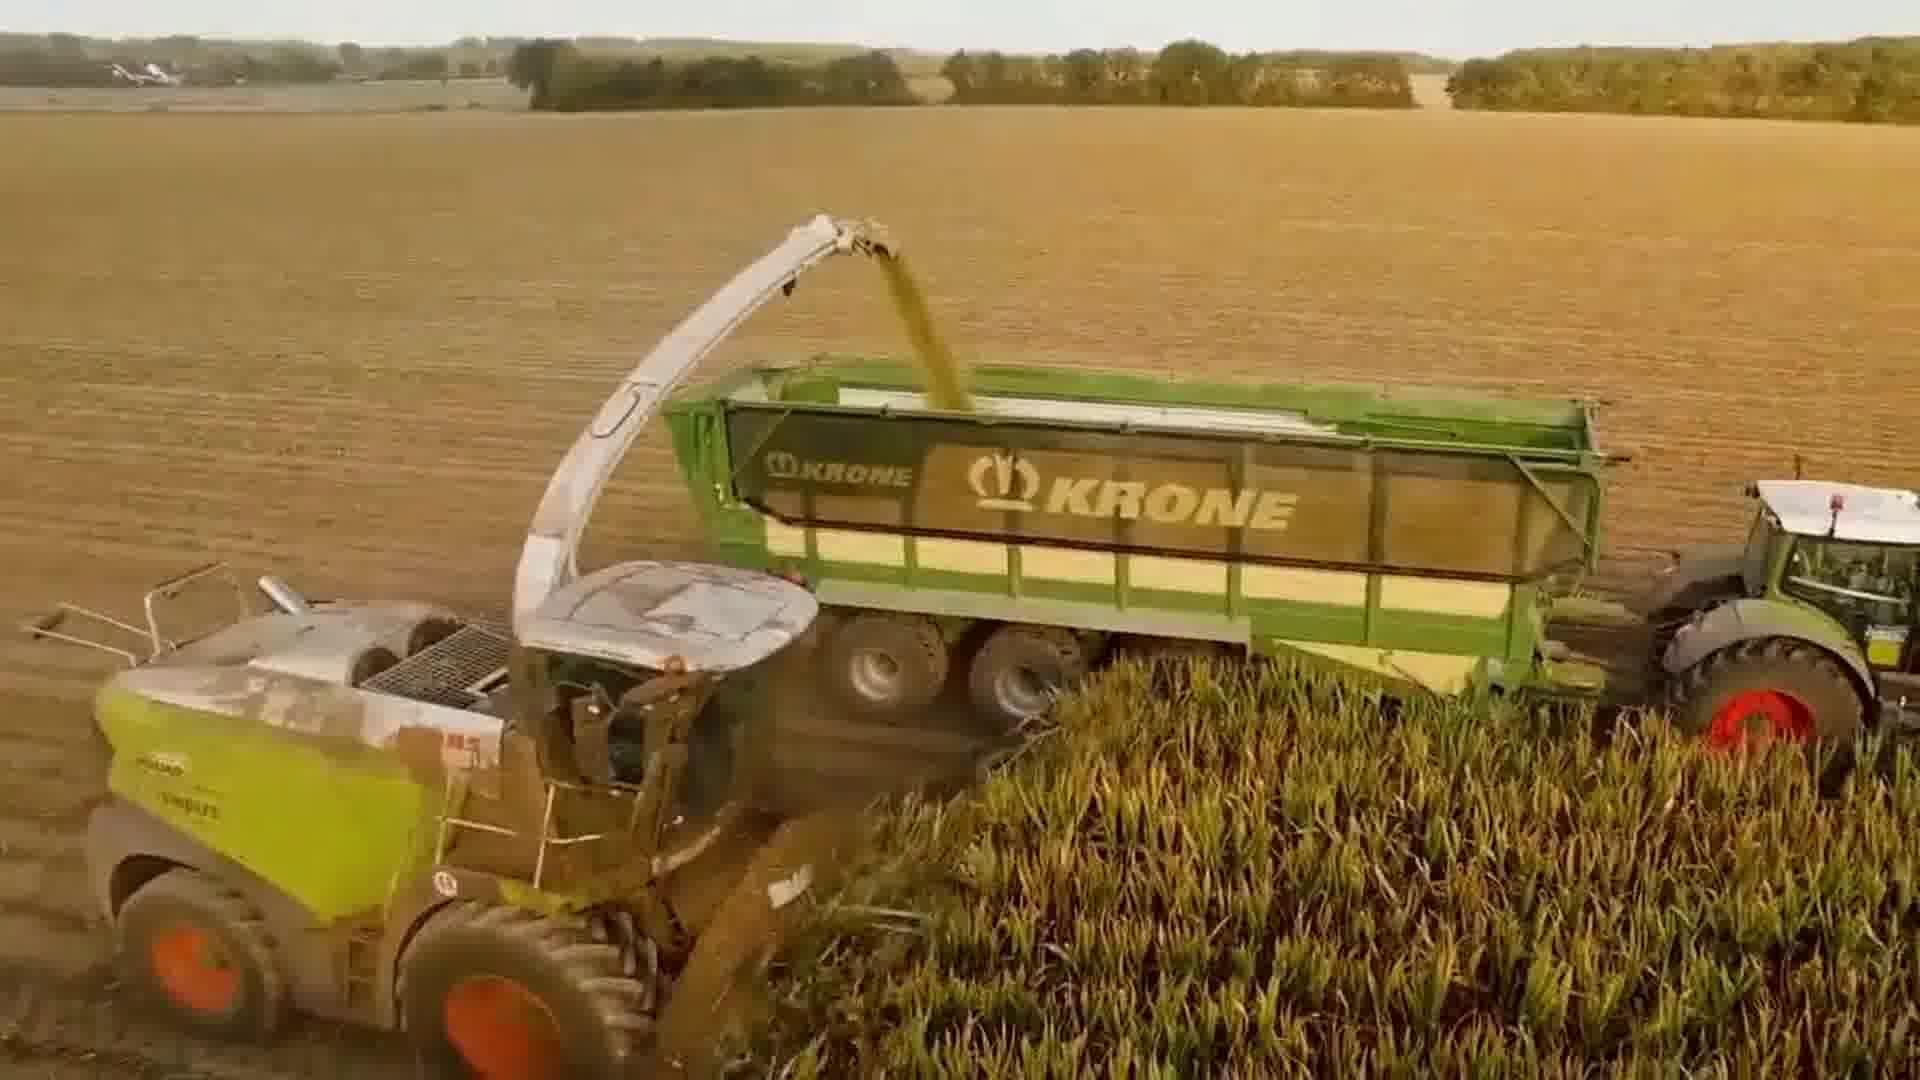combine harvester: (16, 203, 910, 1080)
tractor: (1636, 452, 1920, 802)
trailer: (655, 342, 1635, 757)
